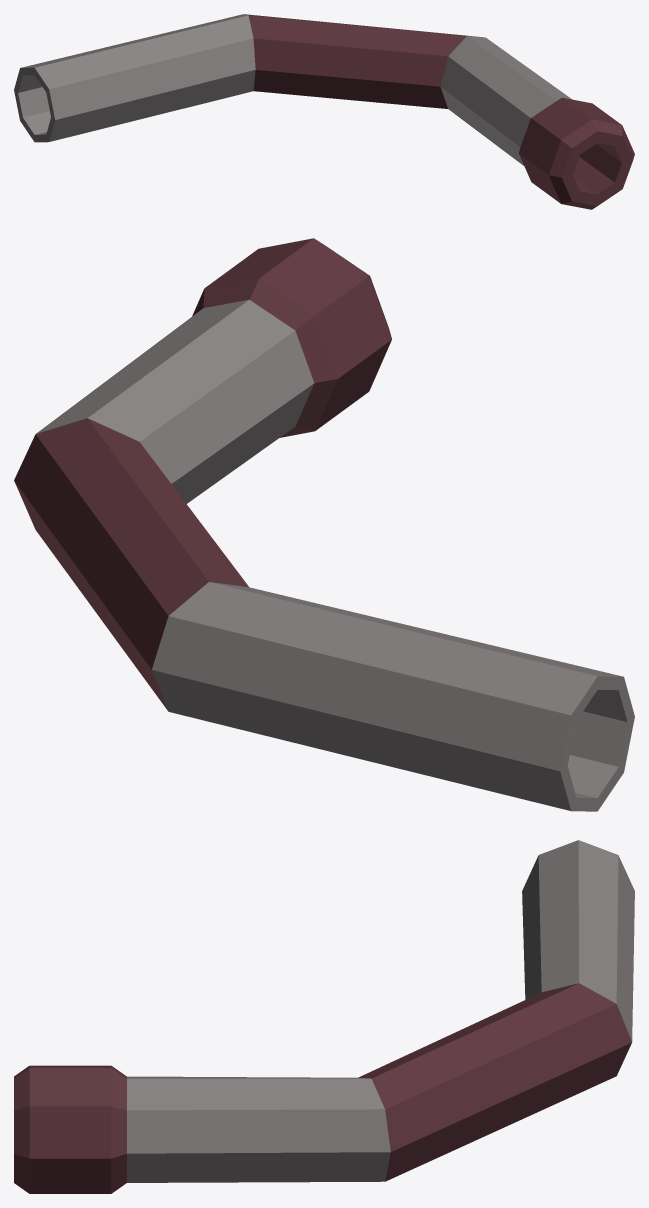
File: scifi-tube-curve.fbx
3 renders of one model, top to bottom at view 1: azimuth 30°, elevation 25°; view 2: azimuth 150°, elevation 25°; view 3: azimuth 270°, elevation 25°, orthographic. The views are drawn at different scales.
Visible parts, largest first — view 1: scifi-tube-curve; view 2: scifi-tube-curve; view 3: scifi-tube-curve.
Boxes of the visible parts, bbox=[...] form: scifi-tube-curve: bbox=[14, 14, 634, 209]; scifi-tube-curve: bbox=[14, 238, 634, 811]; scifi-tube-curve: bbox=[14, 840, 634, 1193].
Bounding box in the file's own units: 1.12 × 0.242 × 1.1.
